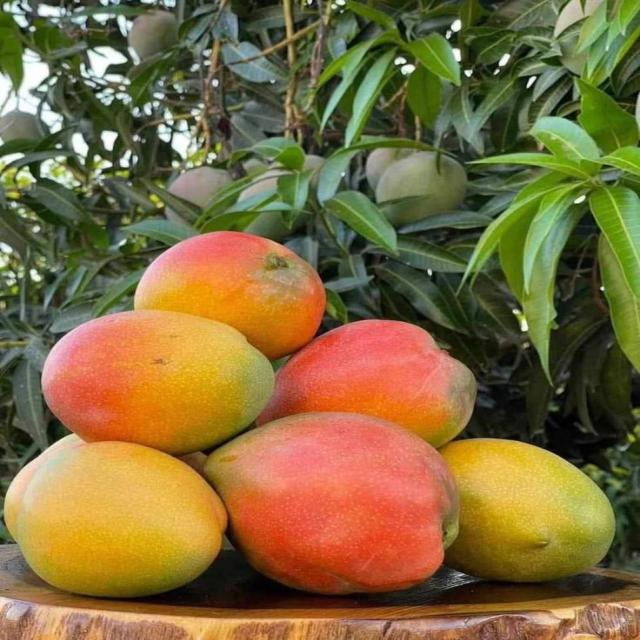mango: (205, 413, 457, 593), (43, 311, 273, 455), (17, 442, 225, 597), (258, 320, 476, 447), (441, 439, 614, 582), (135, 232, 325, 359), (4, 434, 86, 539), (4, 434, 84, 539), (376, 152, 467, 225), (168, 167, 231, 208), (128, 10, 177, 59), (366, 148, 414, 190), (244, 211, 303, 241), (0, 111, 47, 142)
